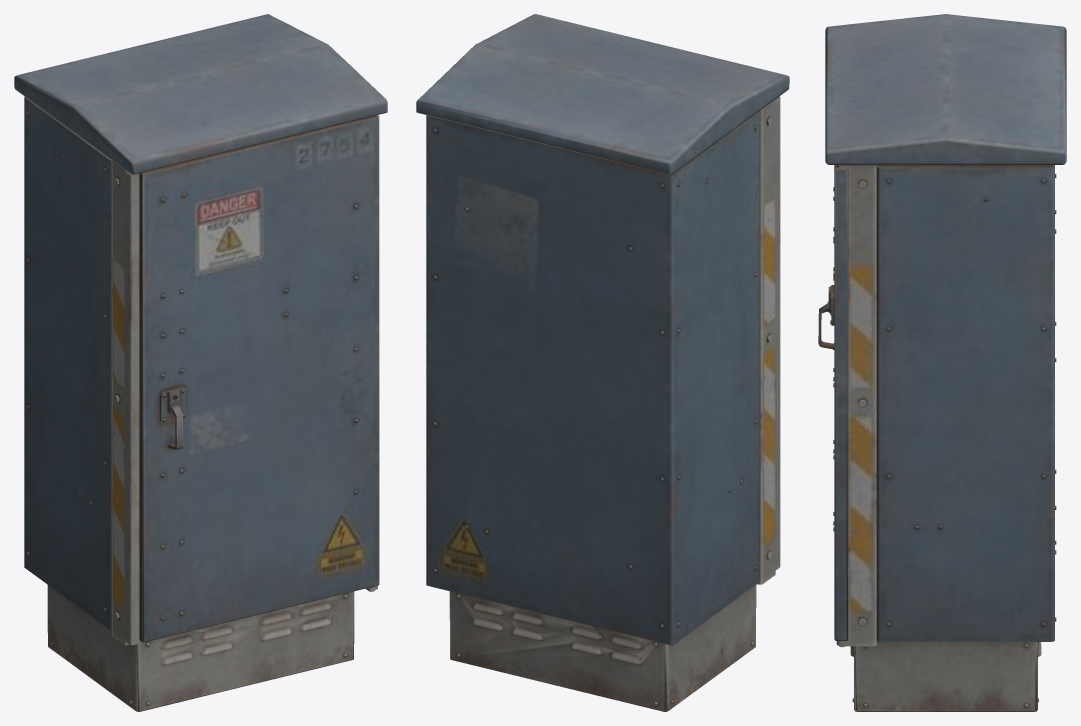
The model's file is utility_box_01.glb.
3 renders of one model, left to right at view 1: azimuth 30°, elevation 25°; view 2: azimuth 150°, elevation 25°; view 3: azimuth 270°, elevation 25°, orthographic.
Parts seen in each view (by area): view 1: utility_box_01_box; view 2: utility_box_01_box; view 3: utility_box_01_box.
Part boxes in pixels (left/top/right/bottom): utility_box_01_box: left=14, top=14, right=387, bottom=711; utility_box_01_box: left=416, top=14, right=789, bottom=711; utility_box_01_box: left=818, top=14, right=1066, bottom=711.
Bounding box in the file's own units: 0.52 × 1.12 × 0.432.
1 material, 1 textured.
